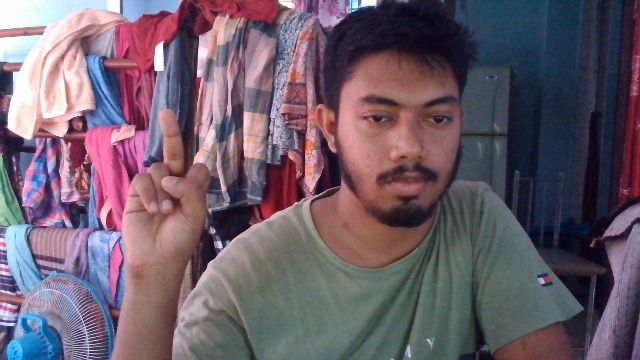fucku: (120, 108, 213, 277)
